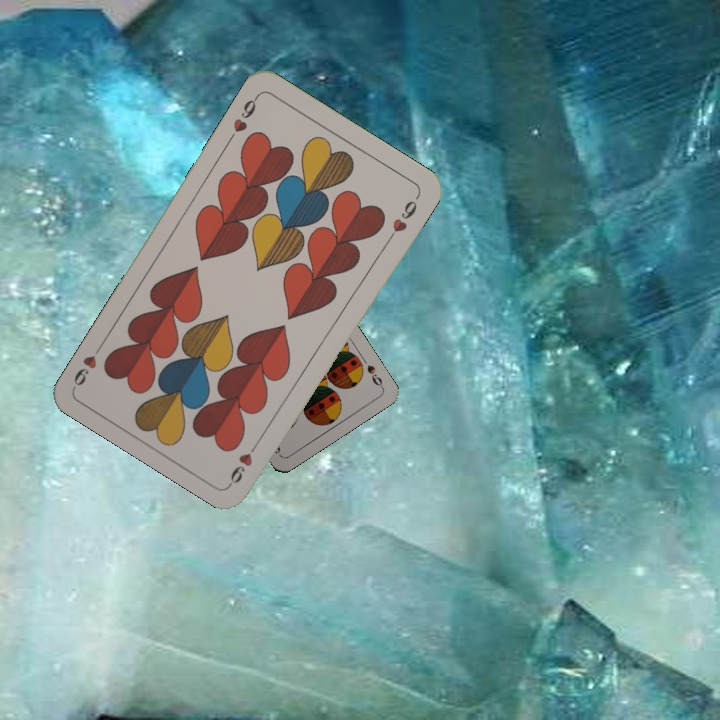H9: (225, 434, 264, 487), (224, 91, 262, 144)
S9: (363, 361, 386, 391)
